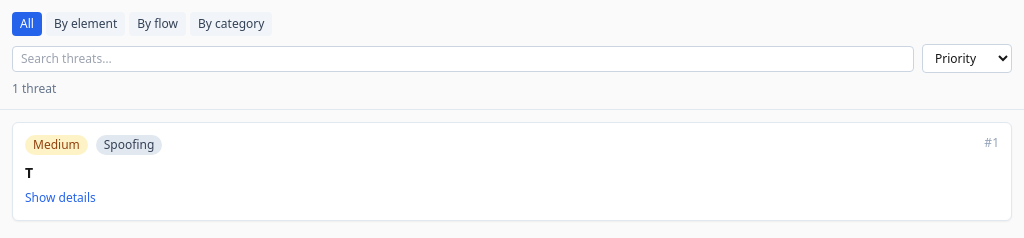
it: ThreatsPane component › byElement mode shows hint when no element selected
Click the tab with test id "pane-mode-byElement". click: (86,24)
box: [46,12,125,36]
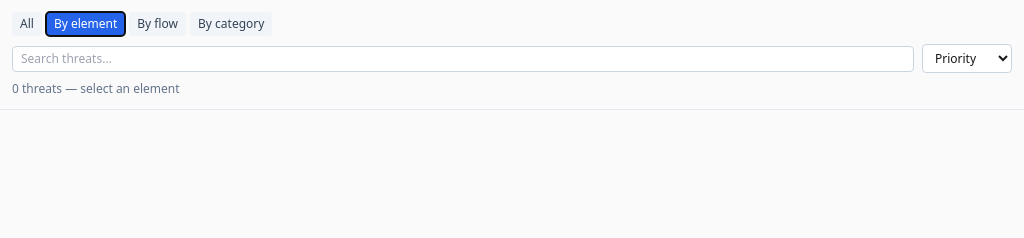
Now the text "0 threats — select an element" is shown, box [12,80,180,97]
